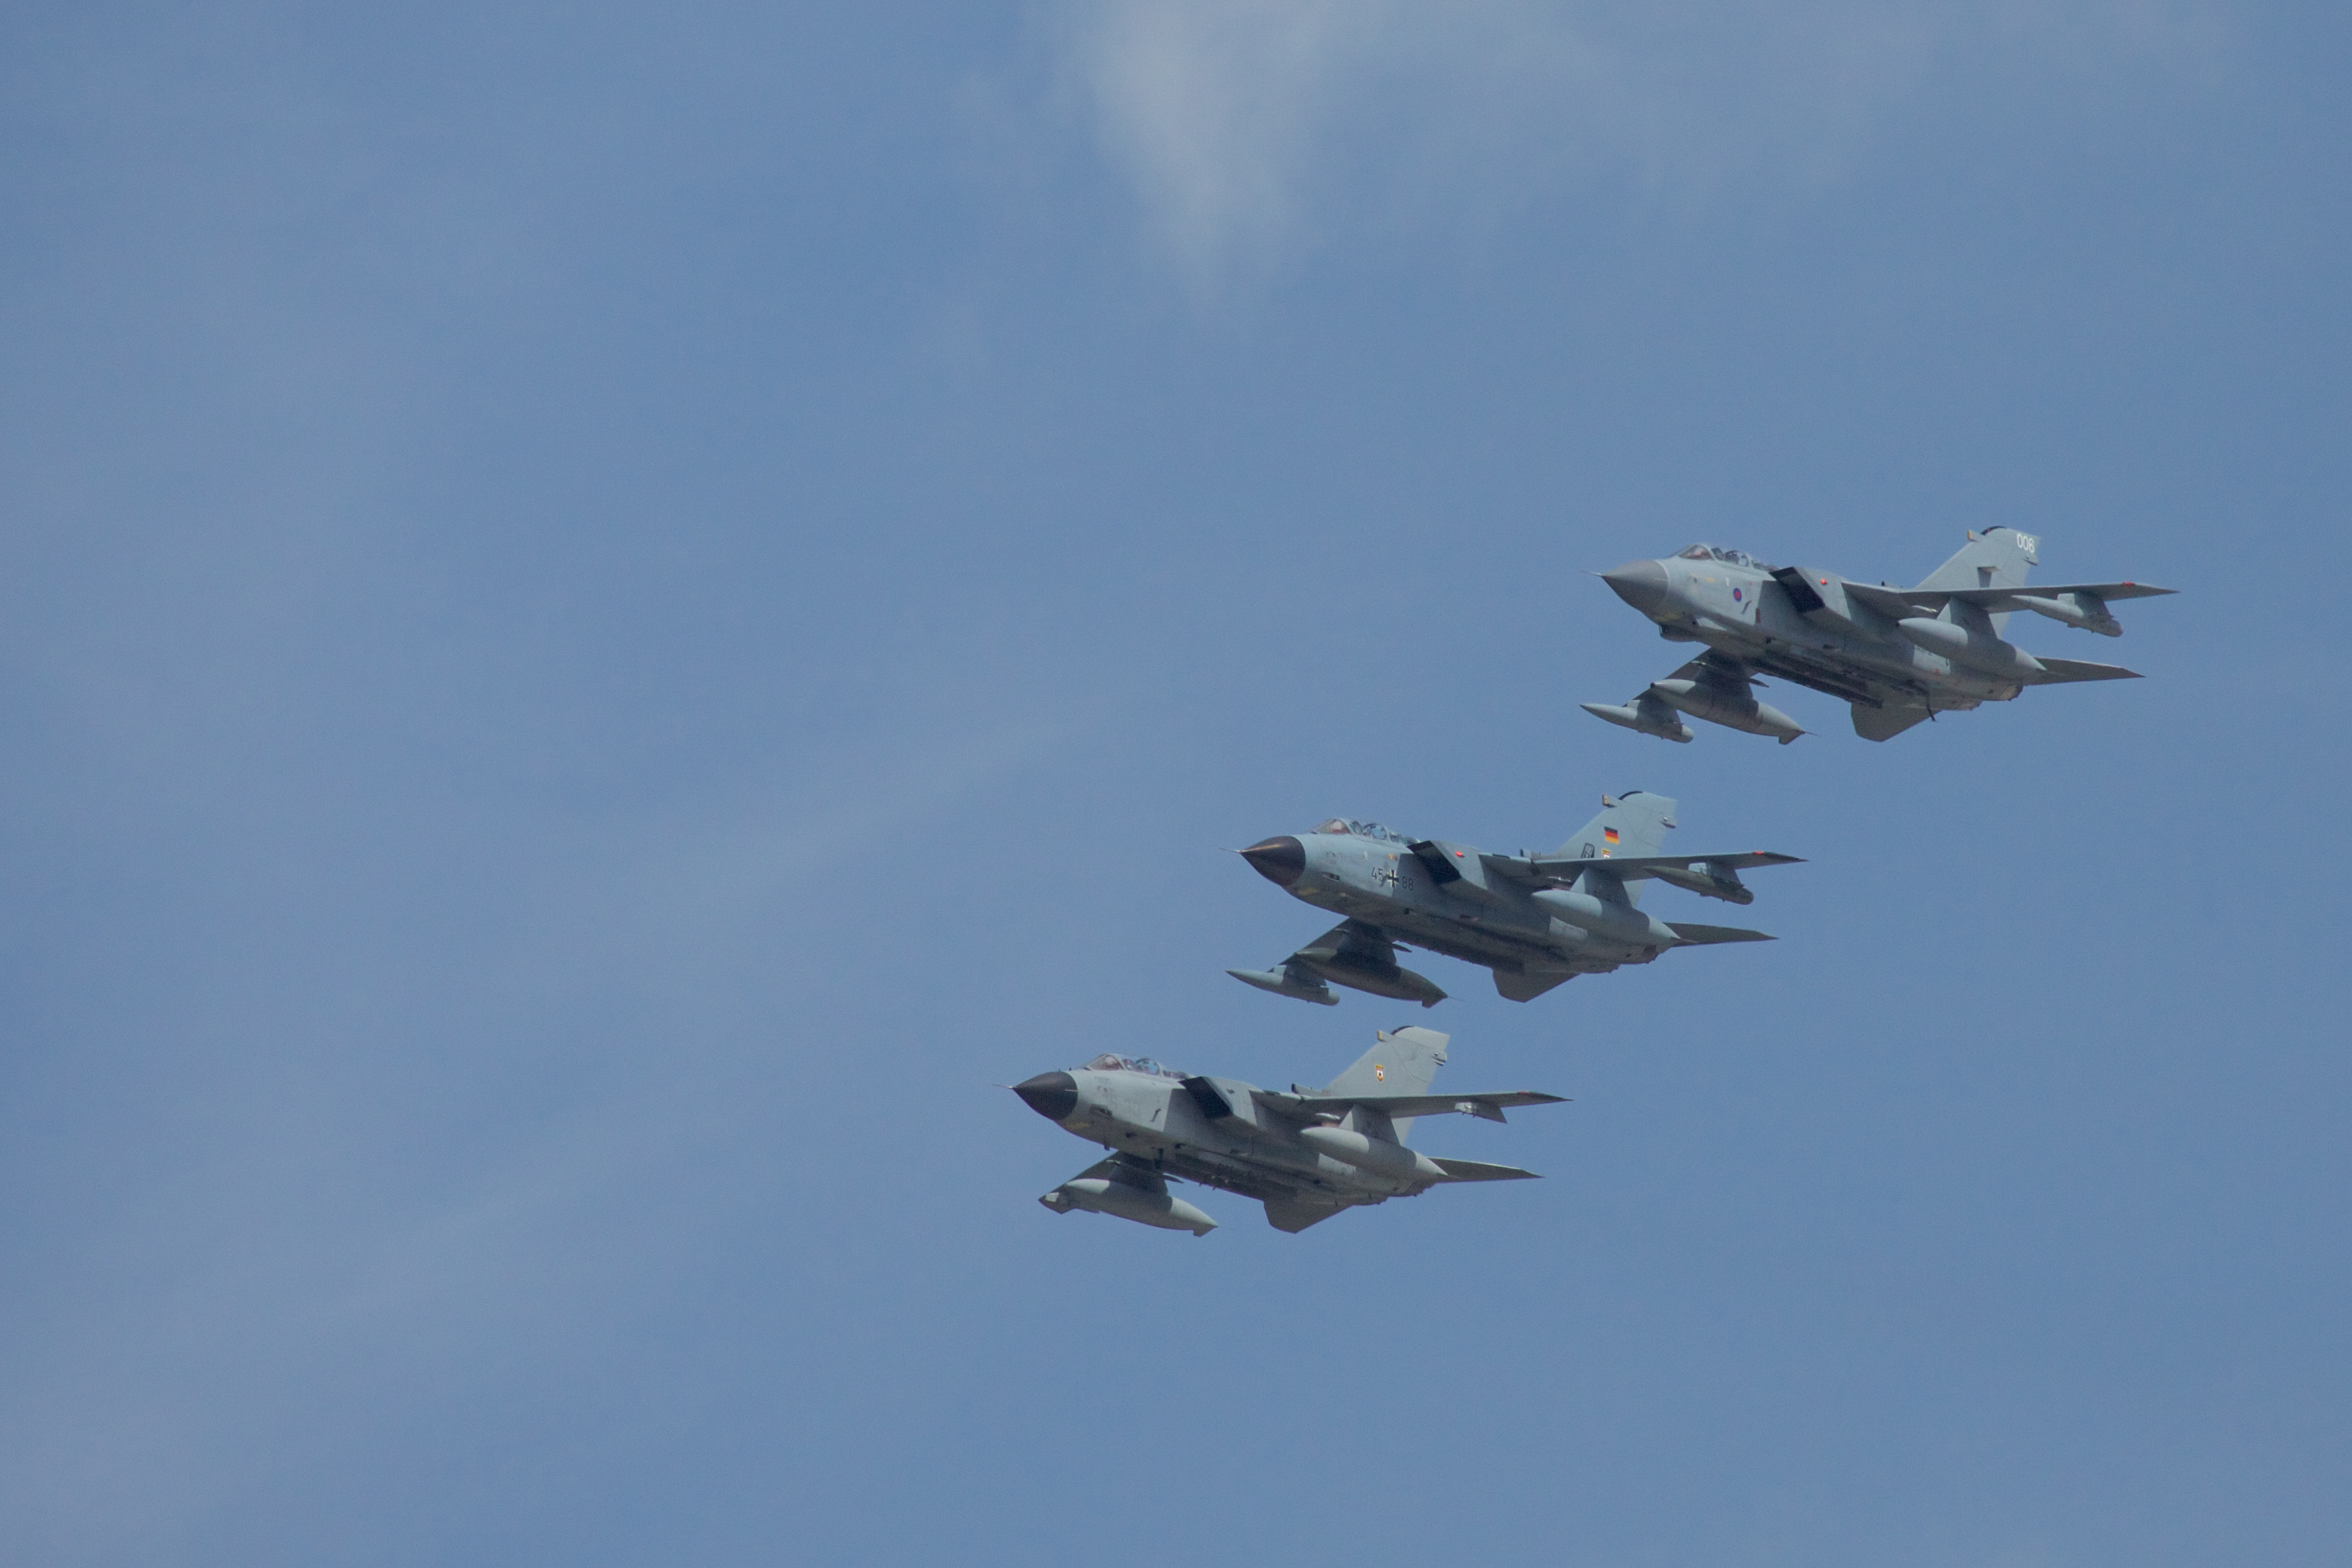Tornado: (1578, 525, 2182, 745), (1216, 791, 1809, 1010), (989, 1025, 1575, 1237)
